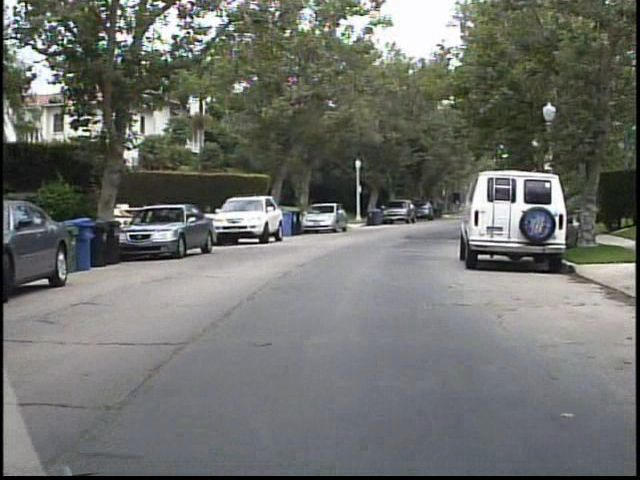person: (562, 217, 584, 253)
